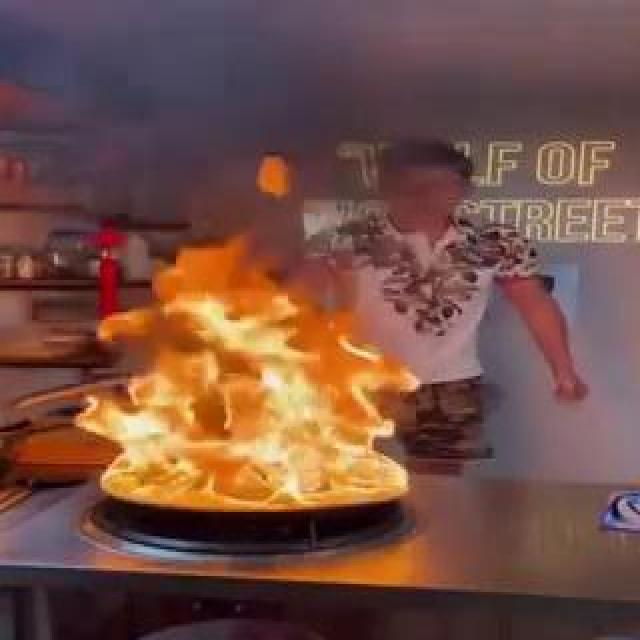Fire: (238, 332, 352, 374)
